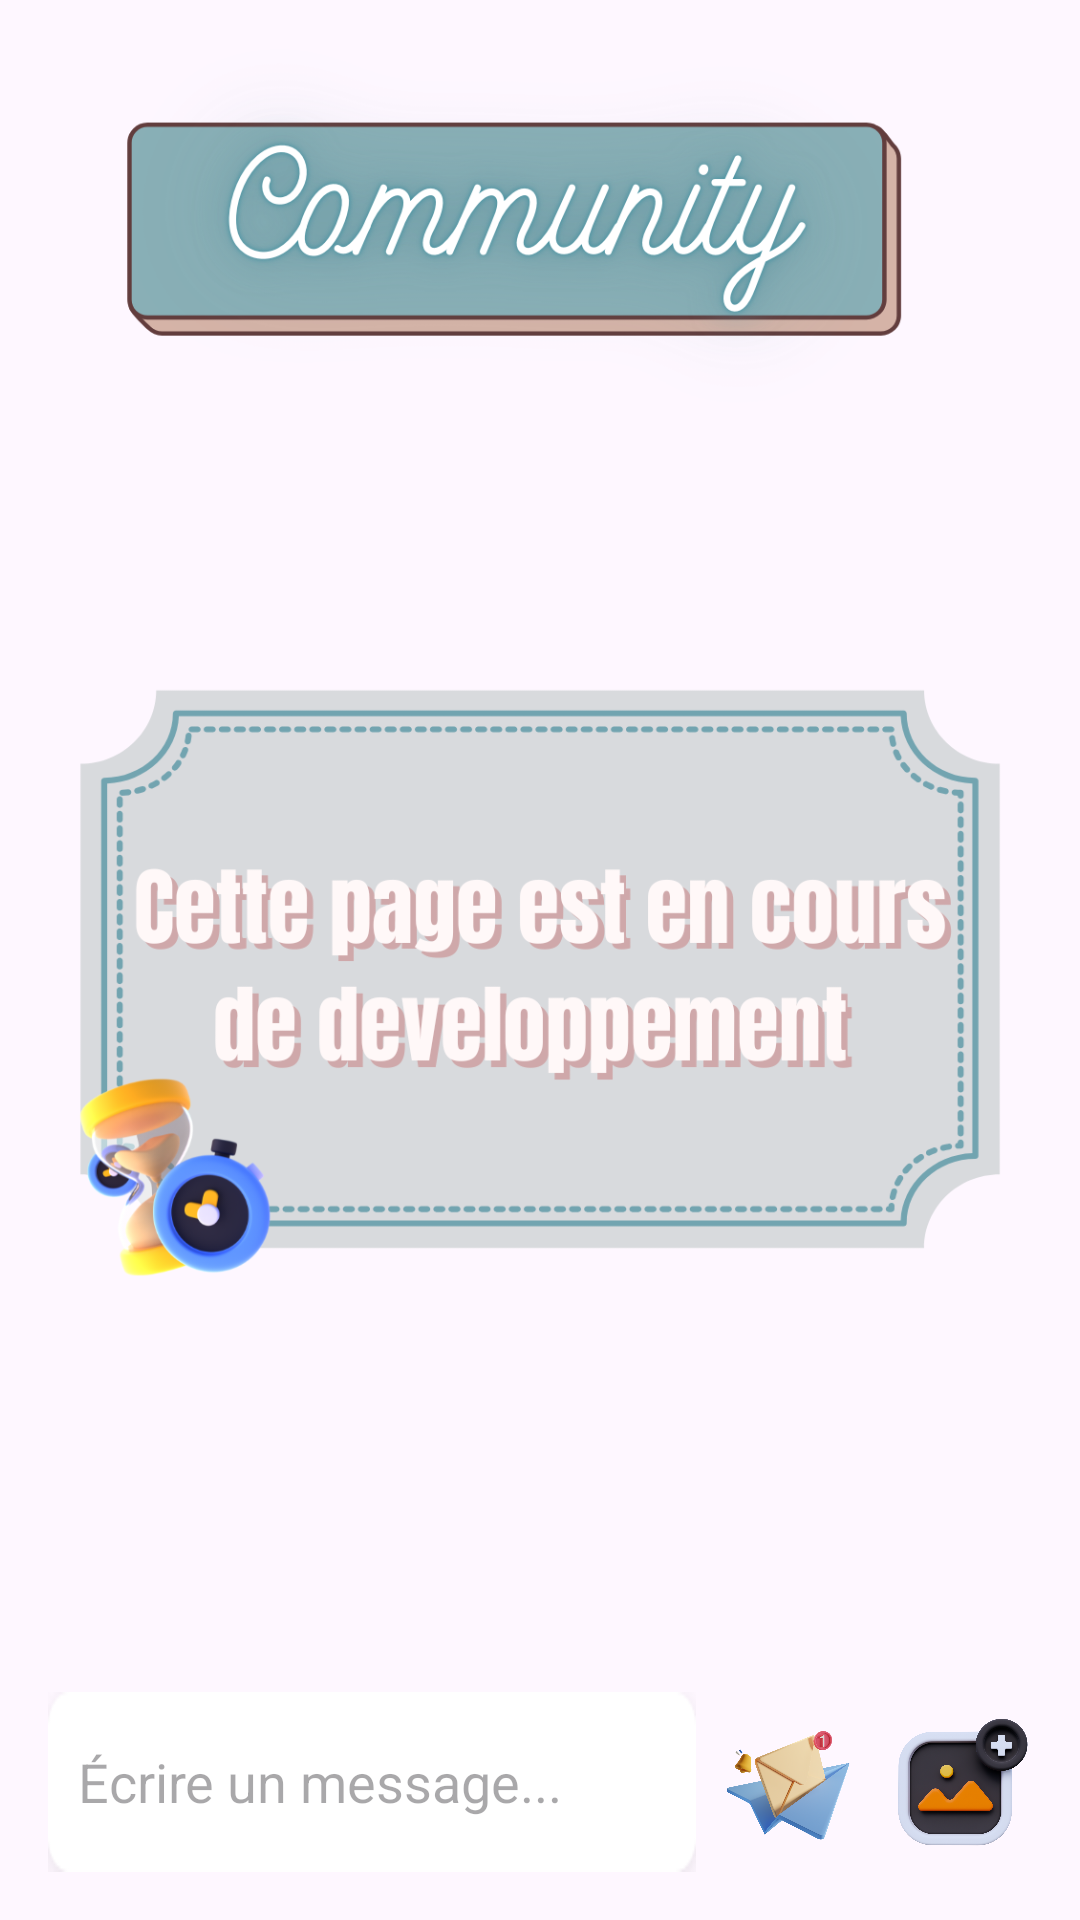

Screen size 1080 x 1920. Icon name, then its box in pixels as (x1, y1, x2, y2):
Envoyer: (727, 1731, 849, 1840)
Joindre une image: (898, 1719, 1028, 1845)
